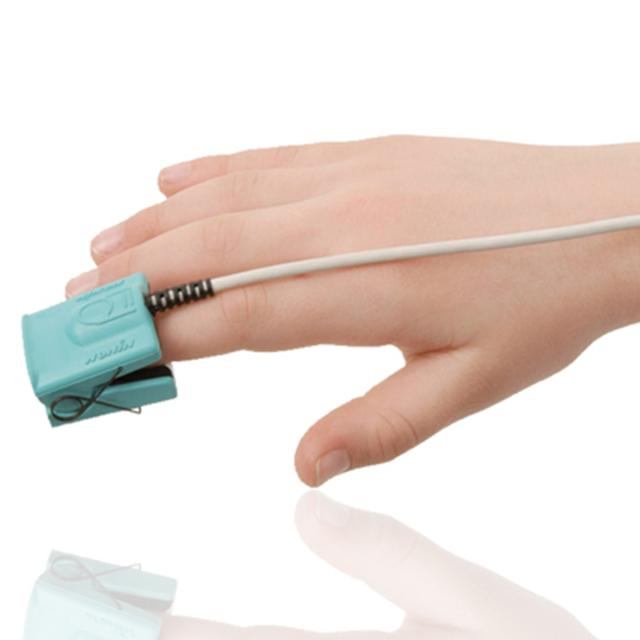oximeter: (8, 266, 187, 429)
